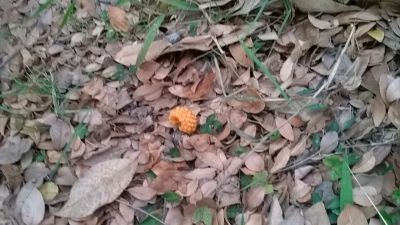eggs: (167, 104, 199, 135)
